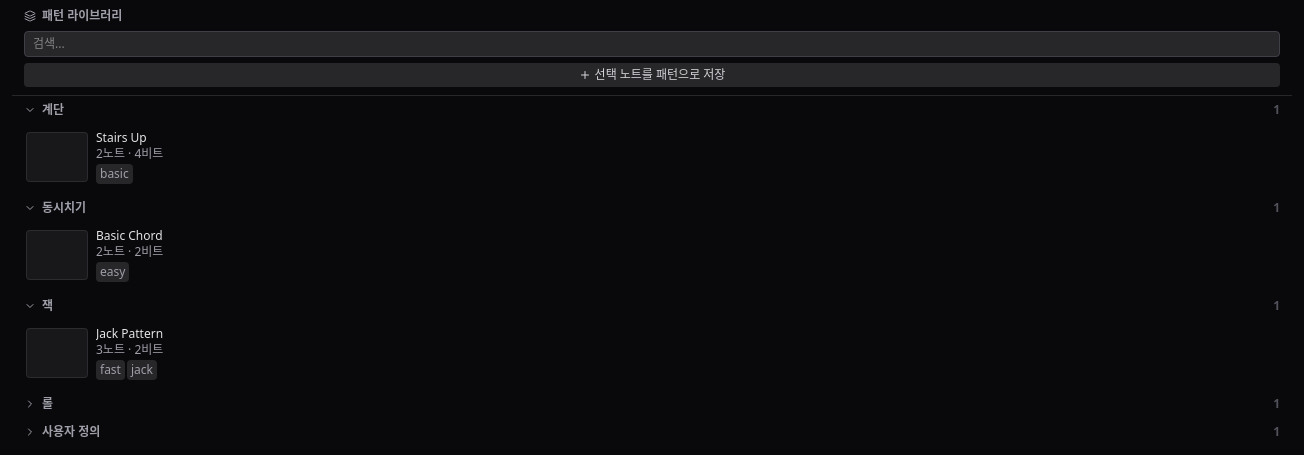
PatternLibraryPanel › filters patterns by tag when searching
The image size is (1304, 455).
Type "fast" into the field with placeholder "검색..." at point(652, 44), box [24,31,1280,57]
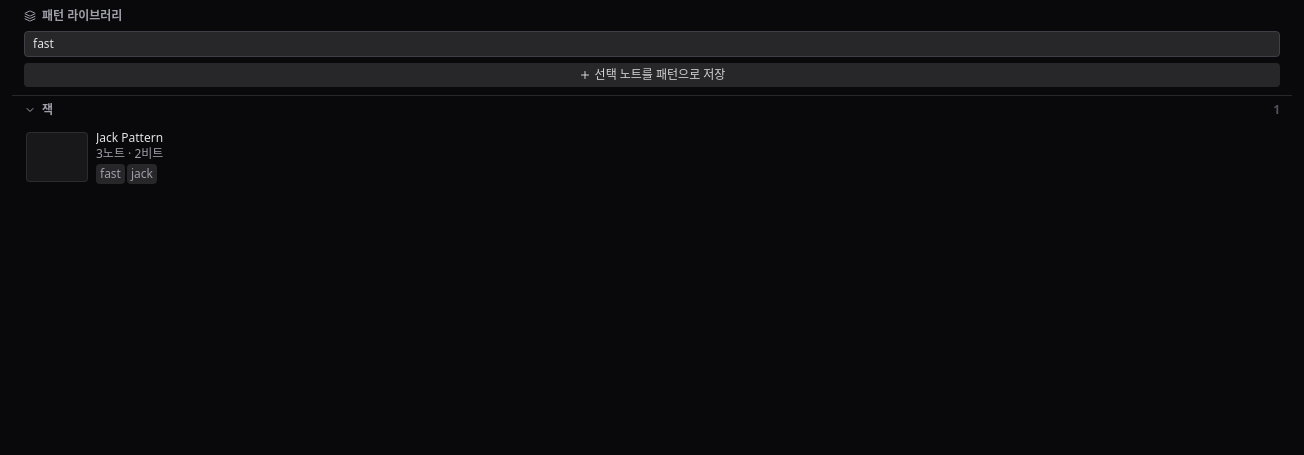
Check: the text "Jack Pattern" is shown, box [96,129,163,146]
Check: the text "Stairs Up" is gone
Check: the text "Basic Chord" is gone
